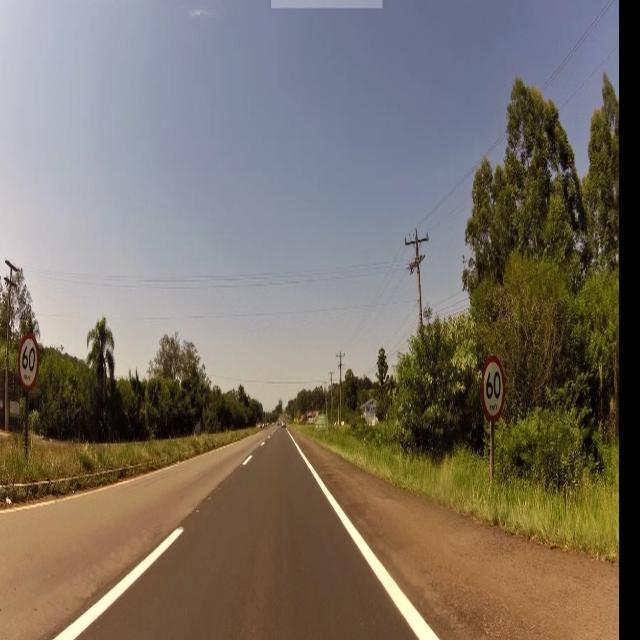R-19: (18, 334, 40, 390), (484, 362, 506, 416)
